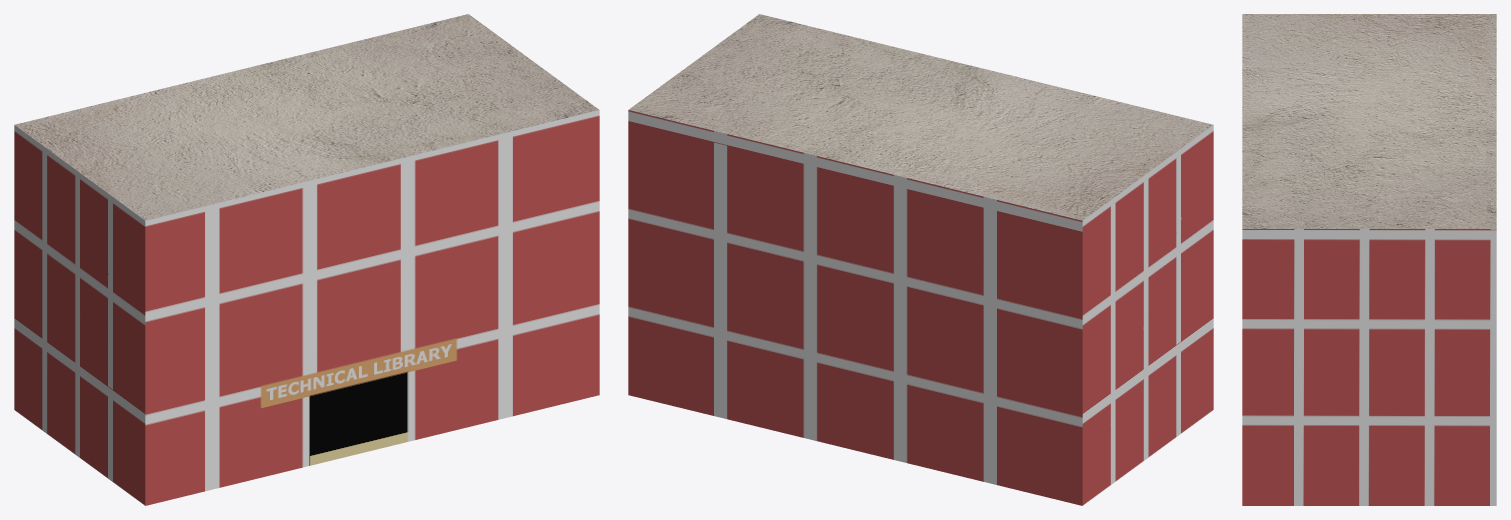
Rendered from Library.fbx.
The picture shows the model from 3 angles, left to right: view 1: azimuth 30°, elevation 25°; view 2: azimuth 150°, elevation 25°; view 3: azimuth 270°, elevation 25°; orthographic projection. The views are drawn at different scales.
Visible parts, largest first — view 1: pCube1; view 2: pCube1; view 3: pCube1.
Part boxes in pixels (x1,y1,x2,y2): pCube1: (14, 14, 599, 505); pCube1: (628, 14, 1213, 505); pCube1: (1242, 14, 1496, 505).
Bounding box in the file's own units: 15 × 9 × 7.5.
3 materials, 3 textured.
